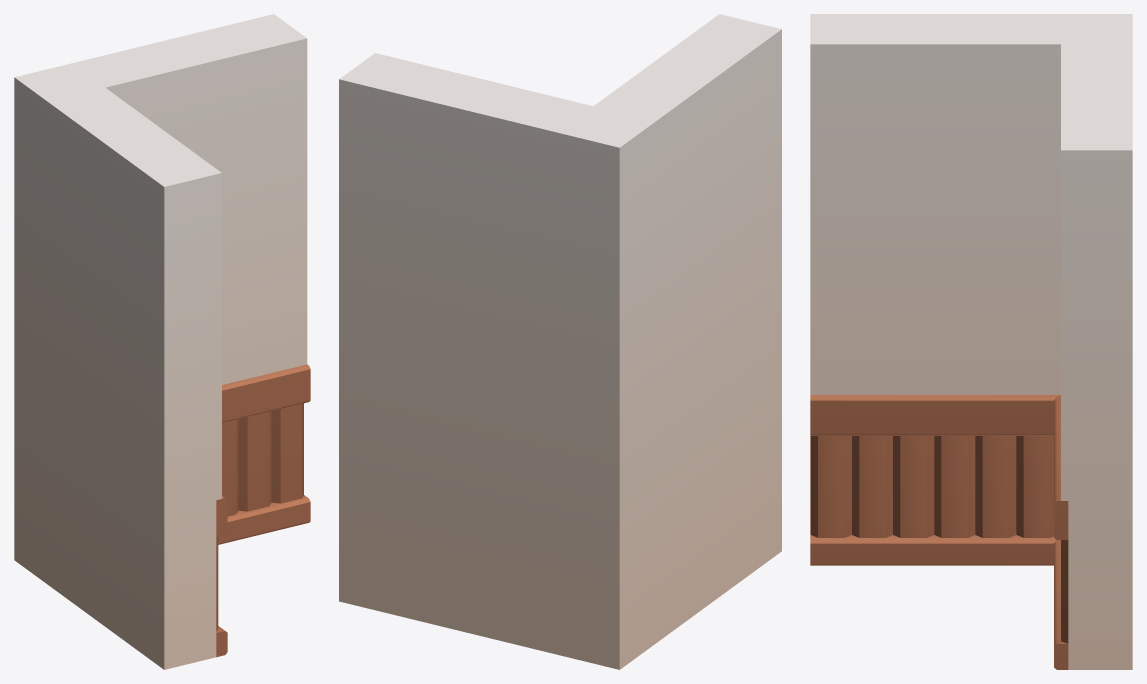
Rendered from wall-panelled-bakery-corner-inner.glb.
The picture shows the model from 3 angles, left to right: view 1: azimuth 30°, elevation 25°; view 2: azimuth 150°, elevation 25°; view 3: azimuth 270°, elevation 25°; orthographic projection. The views are drawn at different scales.
Parts seen in each view (by area): view 1: wall_panelled_bakery_corner_inner; view 2: wall_panelled_bakery_corner_inner; view 3: wall_panelled_bakery_corner_inner.
Boxes of the visible parts, box(x1,y1,x2,y2) form: wall_panelled_bakery_corner_inner: box(14, 14, 310, 669); wall_panelled_bakery_corner_inner: box(339, 14, 781, 669); wall_panelled_bakery_corner_inner: box(810, 14, 1132, 669).
Bounding box in the file's own units: 2.25 × 4 × 2.25.
Materials: 1 (1 with a texture image).
